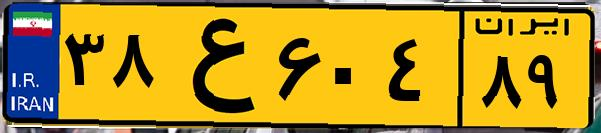0: (330, 28, 385, 110)
3: (57, 26, 110, 100)
4: (385, 28, 445, 110)
6: (270, 28, 330, 110)
8: (475, 38, 525, 113), (110, 28, 158, 98)
9: (525, 38, 570, 115)
ع: (158, 12, 270, 120)
